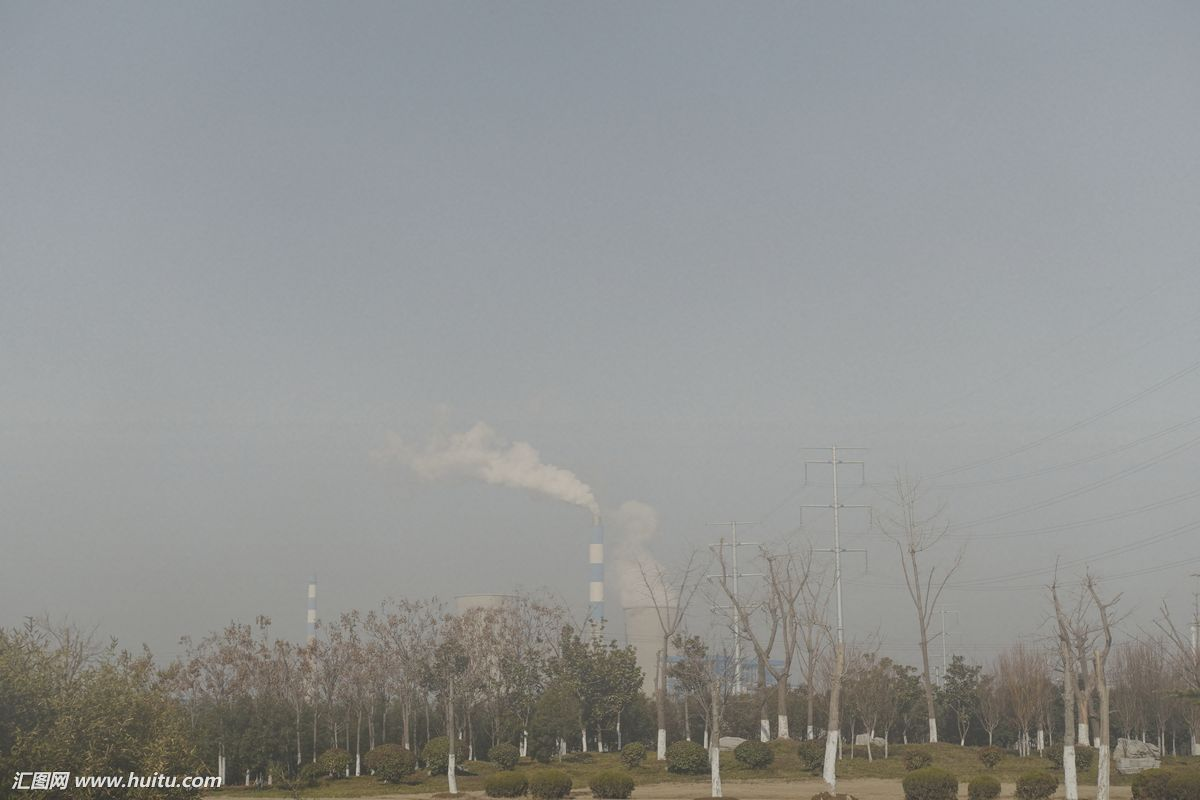dust: (442, 434, 615, 516)
